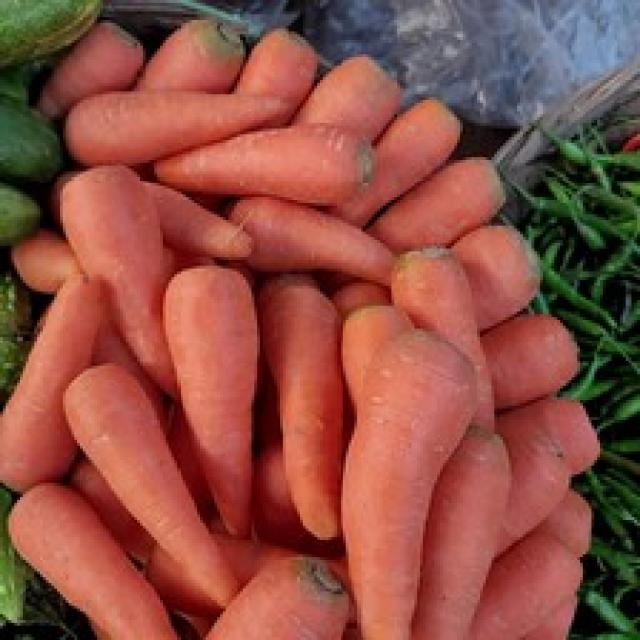Fresh_Carrot: (345, 311, 465, 640), (67, 359, 233, 590), (165, 264, 265, 560), (59, 163, 180, 387), (142, 130, 370, 206)
